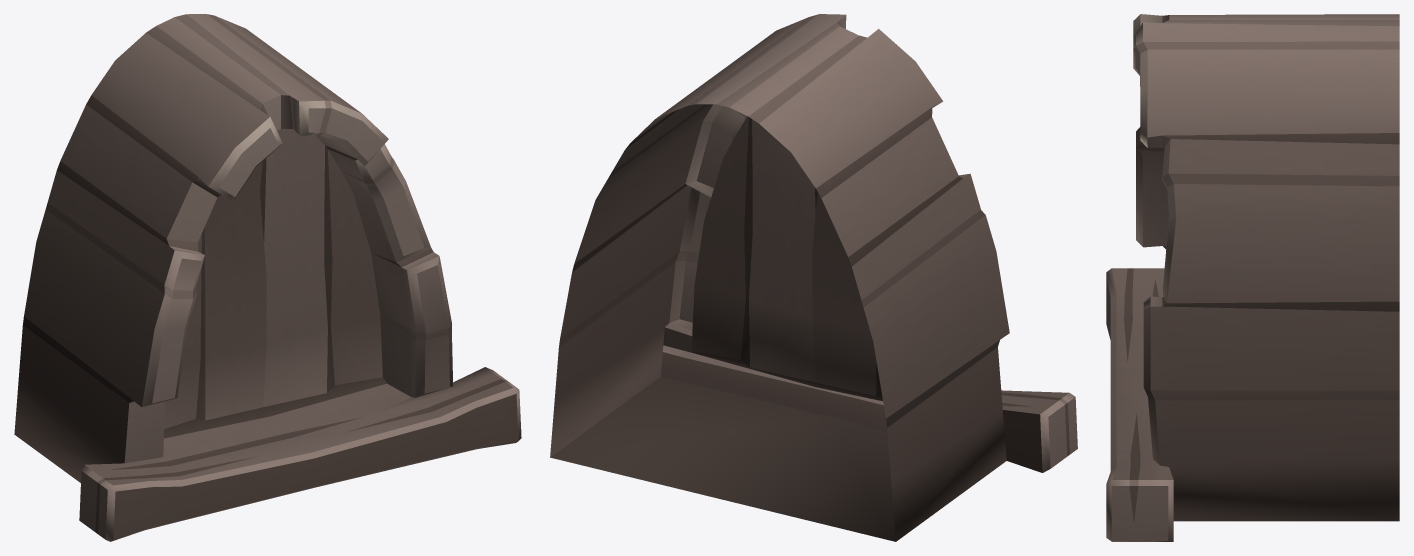
File: elf_roof_window.fbx
3 renders of one model, left to right at view 1: azimuth 30°, elevation 25°; view 2: azimuth 150°, elevation 25°; view 3: azimuth 270°, elevation 25°, orthographic. The views are drawn at different scales.
Visible parts, largest first — view 1: elf_roof_window; view 2: elf_roof_window; view 3: elf_roof_window.
Part boxes in pixels (<box>): elf_roof_window: <box>14,14,521,541</box>; elf_roof_window: <box>550,14,1077,541</box>; elf_roof_window: <box>1106,14,1399,541</box>.
Bounding box in the file's own units: 3.5 × 3.06 × 1.97.
